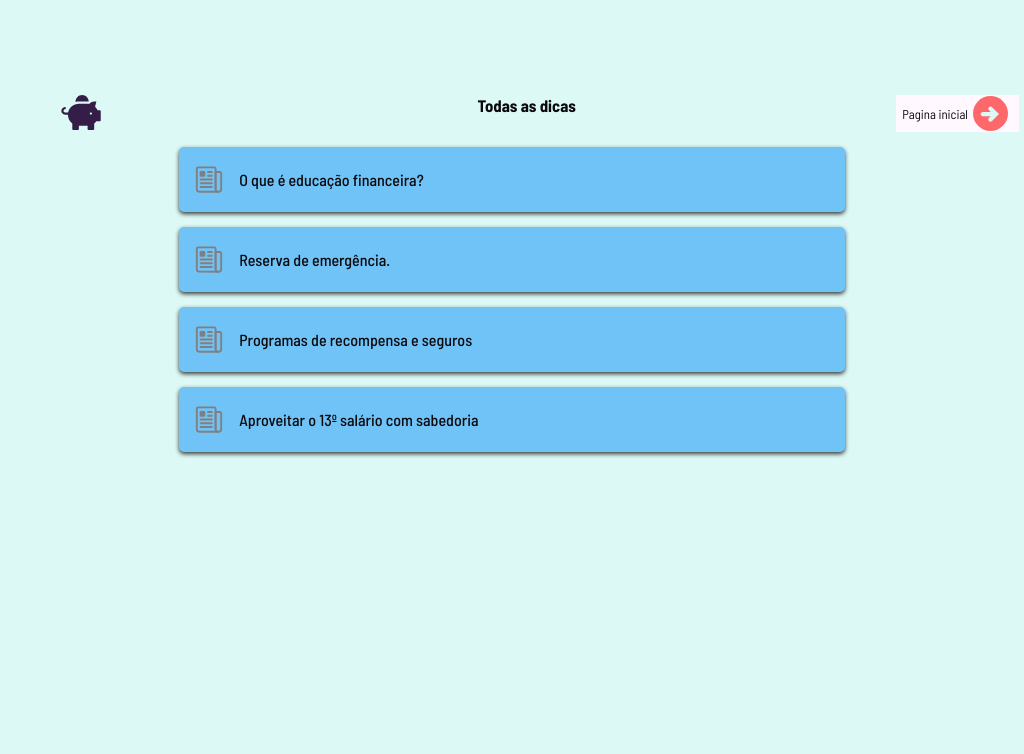
Test: When everything is ok. › when the user clicks a button tipsFour it should render the article
This screenshot has width=1024, height=754.
Click the button with test id "tipsFour": (359, 420) 179,387 -> 845,452
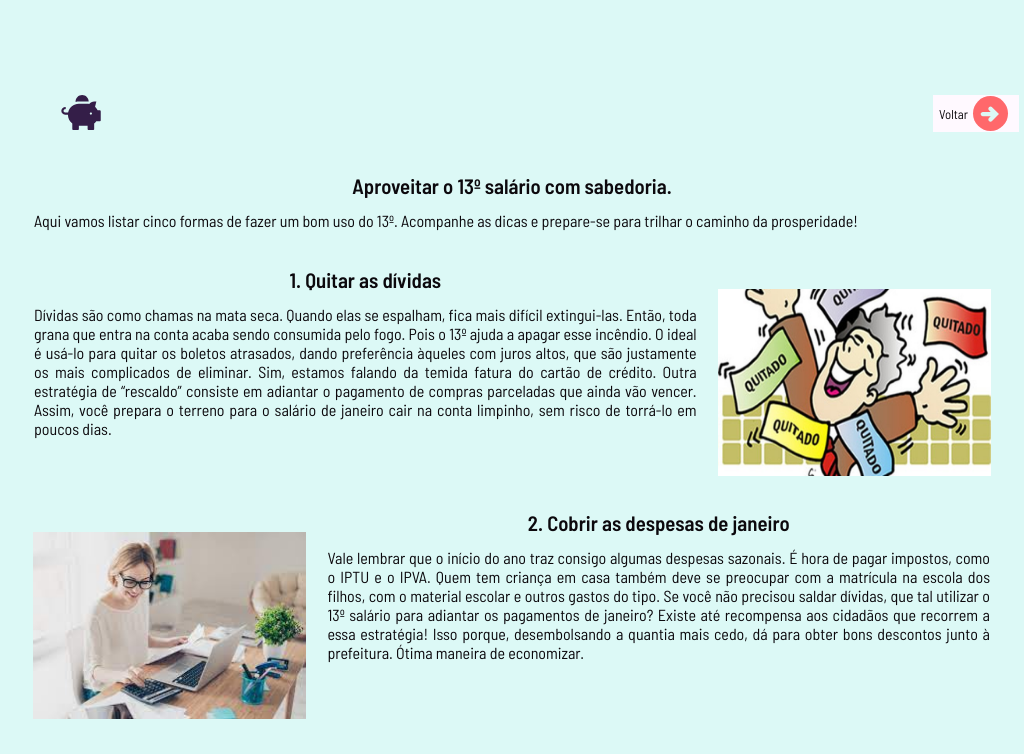
Result: the heading "Aproveitar o 13º salário com sabedoria." is shown at 352,173 -> 672,198
